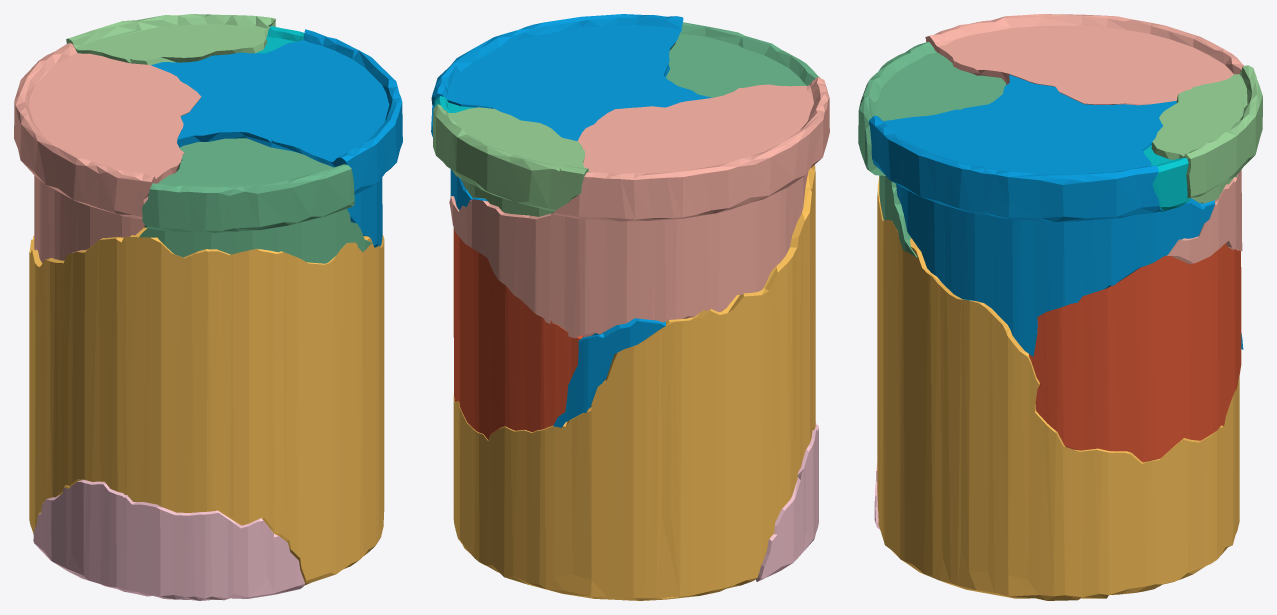
The picture shows the model from 3 angles, left to right: view 1: azimuth 30°, elevation 25°; view 2: azimuth 150°, elevation 25°; view 3: azimuth 270°, elevation 25°; orthographic projection.
Visible parts, largest first — view 1: Object_piece_7, Object_piece_7.004, Object_piece_7.003, Object_piece_7.005, Object_piece_7.002, Object_piece_7.006, Object_piece_7.007; view 2: Object_piece_7, Object_piece_7.004, Object_piece_7.003, Object_piece_7.001, Object_piece_7.006, Object_piece_7.002, Object_piece_7.005; view 3: Object_piece_7, Object_piece_7.003, Object_piece_7.001, Object_piece_7.004, Object_piece_7.006, Object_piece_7.002, Object_piece_7.007.
Boxes of the visible parts, box(x1,y1,x2,y2) form: Object_piece_7: box(29, 227, 384, 585); Object_piece_7.004: box(14, 43, 201, 262); Object_piece_7.003: box(151, 29, 402, 247); Object_piece_7.005: box(33, 479, 304, 600); Object_piece_7.002: box(139, 138, 371, 263); Object_piece_7.006: box(66, 14, 275, 65); Object_piece_7.007: box(256, 26, 304, 53); Object_piece_7: box(453, 165, 815, 600); Object_piece_7.004: box(449, 77, 829, 338); Object_piece_7.003: box(431, 14, 711, 427); Object_piece_7.001: box(453, 228, 582, 439); Object_piece_7.006: box(433, 104, 589, 216); Object_piece_7.002: box(666, 22, 819, 97); Object_piece_7.005: box(755, 421, 818, 581); Object_piece_7: box(877, 176, 1239, 600); Object_piece_7.003: box(869, 74, 1243, 356); Object_piece_7.001: box(1029, 243, 1241, 462); Object_piece_7.004: box(925, 14, 1244, 264); Object_piece_7.006: box(1151, 65, 1262, 203); Object_piece_7.002: box(858, 42, 1006, 257); Object_piece_7.007: box(1143, 145, 1190, 211).
Bounding box in the file's own units: 0.8276 × 1.01 × 0.8442.
